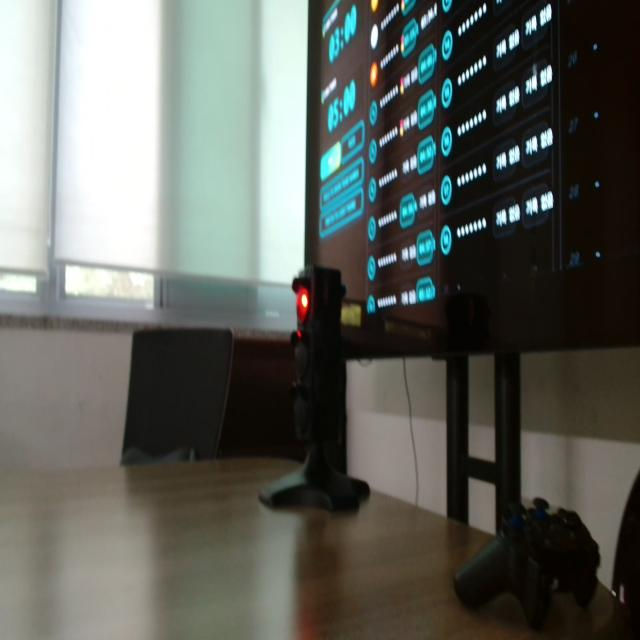red_light: (297, 286, 309, 322)
